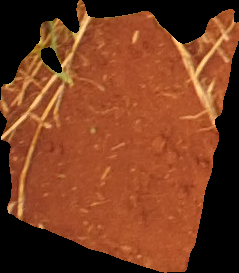soil: (2, 1, 237, 273)
